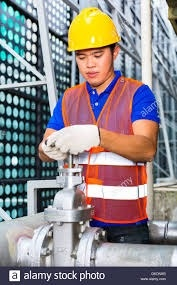helmet: (66, 4, 125, 51)
person: (59, 5, 167, 202)
safety vest: (63, 81, 159, 222)
